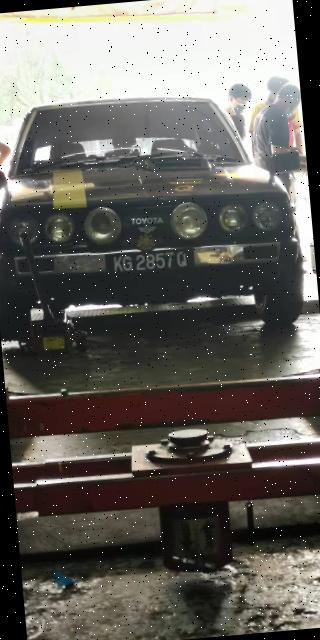License_Plate: (106, 247, 197, 279)
car: (1, 71, 319, 358)
